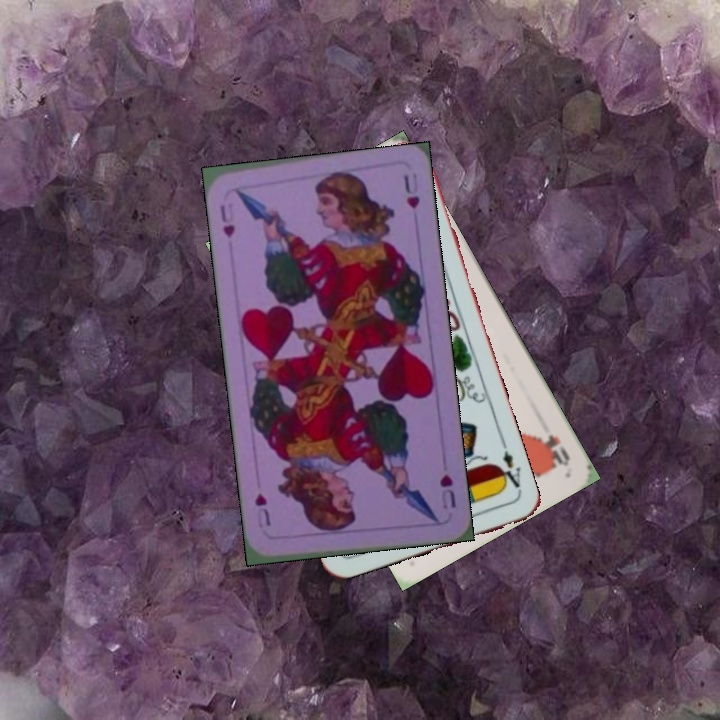EA: (492, 446, 524, 496)
HO: (536, 430, 572, 469)
HU: (435, 471, 459, 512), (215, 199, 238, 240)
